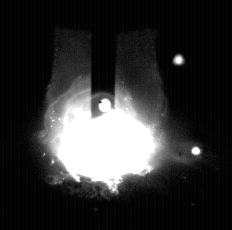arame: (92, 0, 116, 118)
poca: (43, 0, 168, 230)
